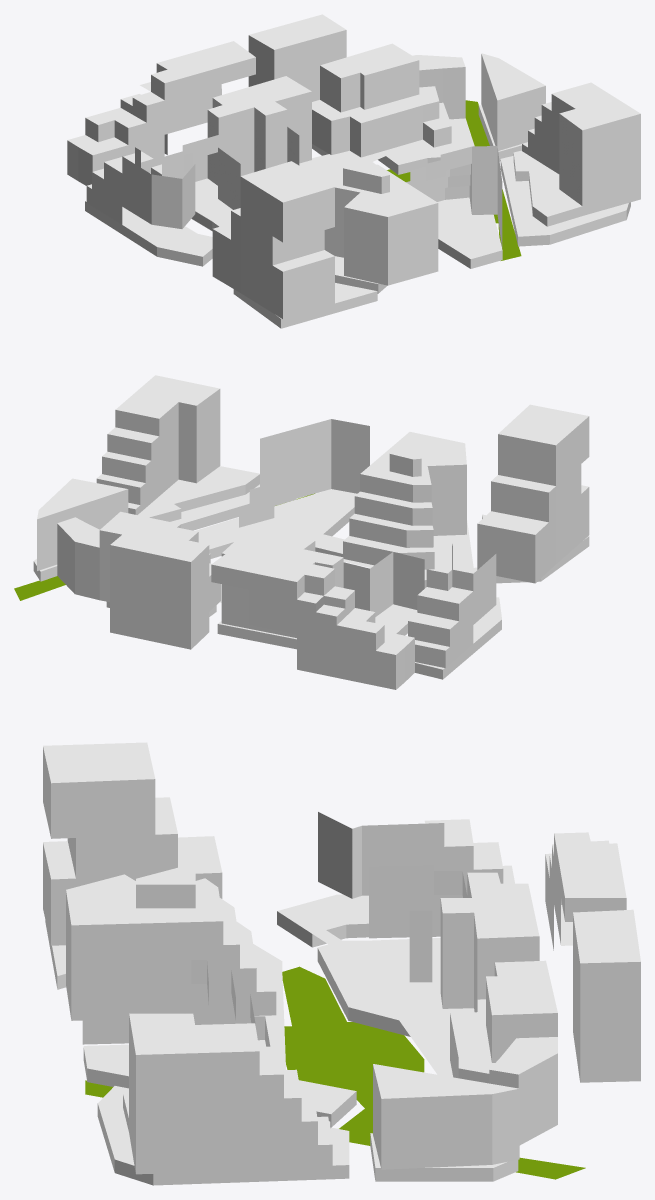
3 views of the same model, one above another, from view 1: azimuth 30°, elevation 25°; view 2: azimuth 150°, elevation 25°; view 3: azimuth 270°, elevation 25° (orthographic). The views are drawn at different scales.
Parts seen in each view (by area): view 1: ID52, ID112, ID119, ID88, ID100, ID61, ID19, ID25, ID94, ID106, ID81, ID74 (+4 smaller); view 2: ID119, ID52, ID88, ID61, ID106, ID81, ID25, ID100, ID94, ID112, ID74, ID19 (+4 smaller); view 3: ID119, ID52, ID100, ID19, ID61, ID74, ID112, ID81, ID165, ID106, ID94, ID88 (+4 smaller).
Part boxes in pixels (x1,y1,x2,y2): ID52: (212, 161, 334, 319); ID112: (312, 43, 465, 157); ID119: (513, 82, 640, 226); ID88: (67, 41, 255, 185); ID100: (151, 76, 311, 209); ID61: (324, 164, 438, 285); ID19: (85, 118, 474, 266); ID25: (233, 197, 502, 328); ID94: (86, 147, 195, 228); ID106: (248, 14, 346, 101); ID81: (406, 146, 502, 249); ID74: (481, 53, 545, 150); ID119: (96, 375, 259, 521); ID52: (477, 404, 589, 583); ID88: (211, 548, 414, 689); ID61: (343, 432, 466, 569); ID106: (110, 528, 209, 649); ID81: (239, 419, 369, 527); ID25: (195, 489, 589, 588); ID100: (221, 536, 424, 637); ID94: (408, 544, 496, 667); ID112: (57, 511, 220, 611); ID74: (37, 478, 128, 570); ID19: (106, 584, 501, 679); ID119: (123, 1013, 332, 1174); ID52: (43, 742, 222, 945); ID100: (369, 865, 539, 1012); ID19: (277, 894, 474, 1077); ID61: (66, 874, 276, 1020); ID74: (373, 1064, 519, 1169); ID112: (450, 960, 557, 1145); ID81: (82, 946, 270, 1046); ID165: (85, 966, 585, 1179); ID106: (573, 909, 640, 1082); ID94: (318, 812, 514, 898); ID88: (545, 832, 626, 950).
Size of the model in its own units: 192 by 50.74 by 164.
